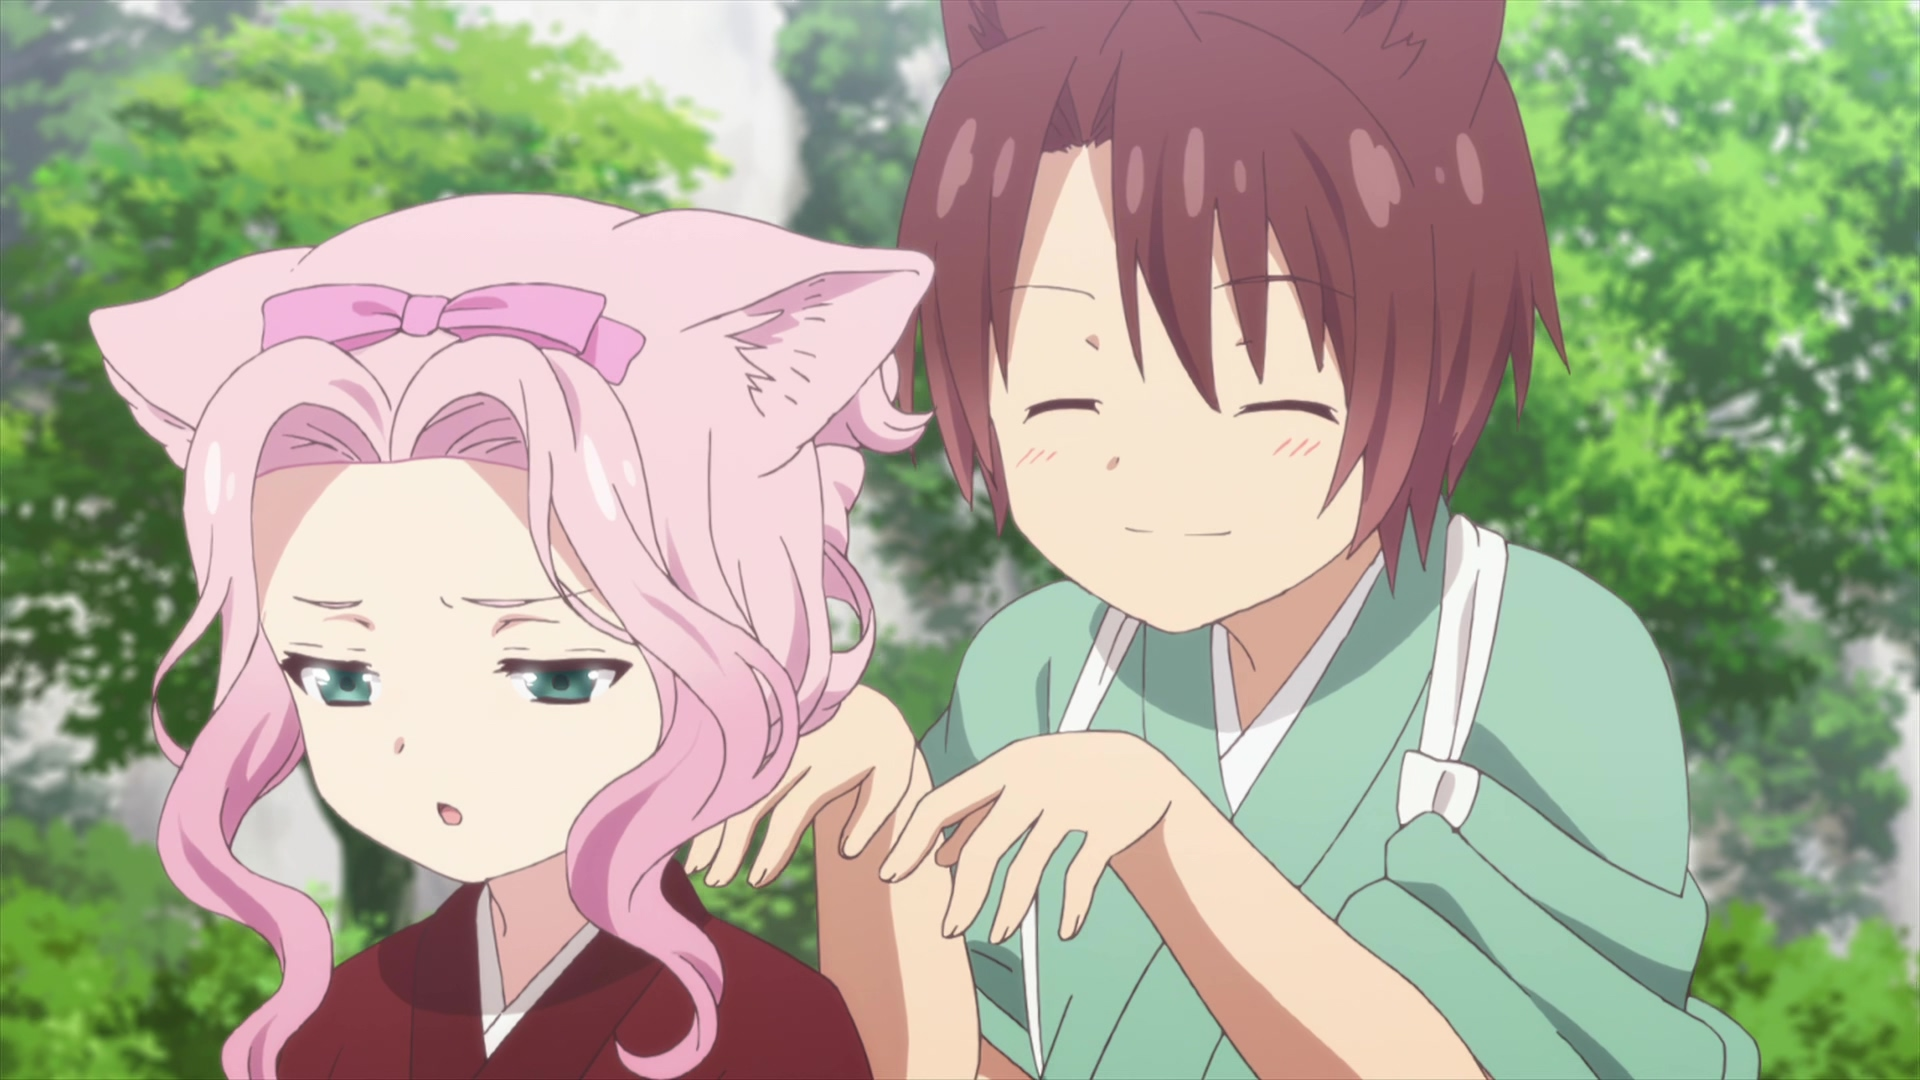枣: (684, 1, 1760, 1080)
莲: (88, 193, 938, 1080)
